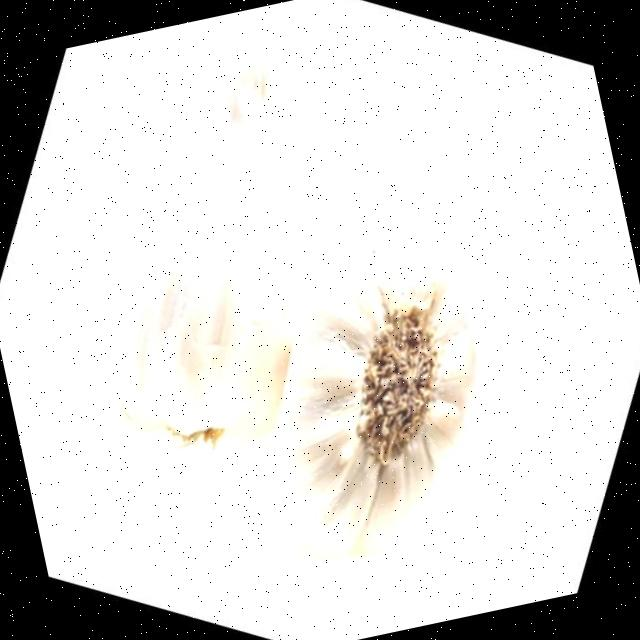garlic: (287, 285, 473, 527)
